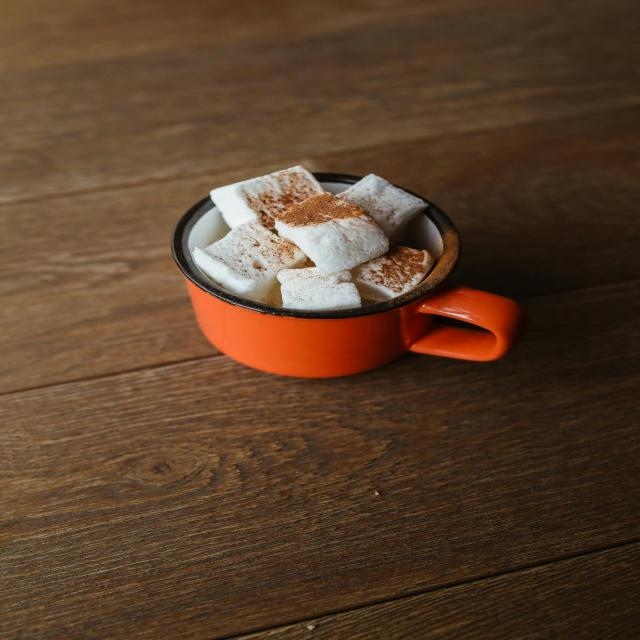Red_cup: (171, 198, 524, 377)
